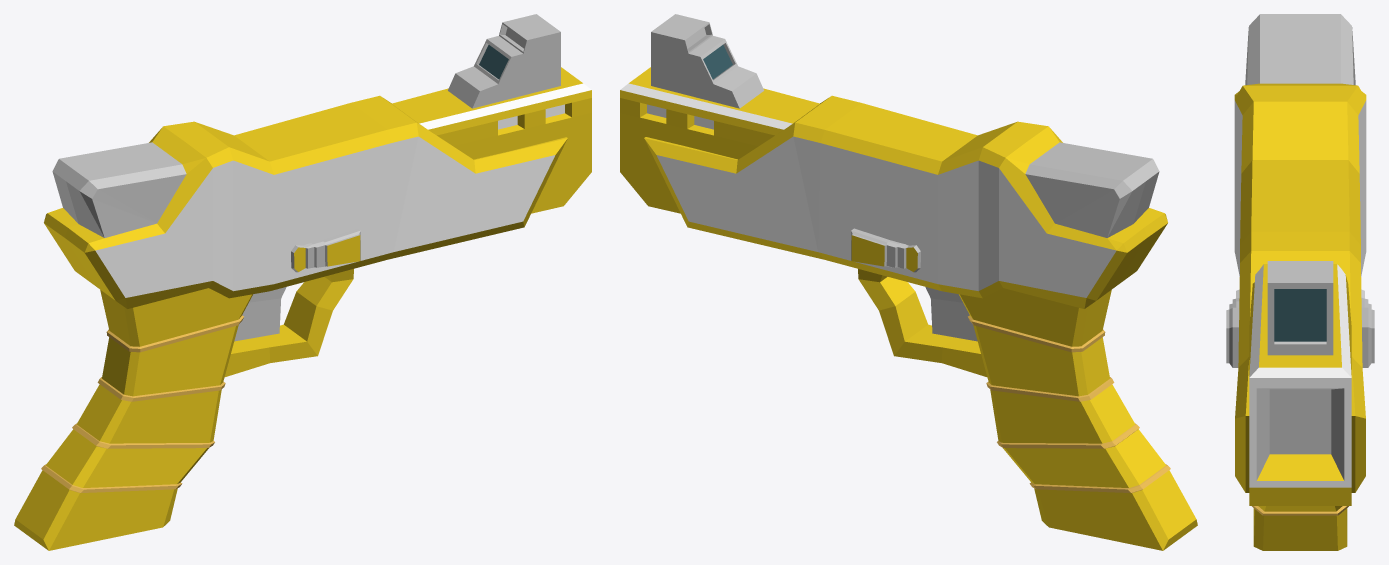
The model's file is Pistol_01_Yellow.fbx.
3 renders of one model, left to right at view 1: azimuth 30°, elevation 25°; view 2: azimuth 150°, elevation 25°; view 3: azimuth 270°, elevation 25°, orthographic. The views are drawn at different scales.
Parts seen in each view (by area): view 1: Pistol_01_Yellow; view 2: Pistol_01_Yellow; view 3: Pistol_01_Yellow.
Boxes of the visible parts, box(x1,y1,x2,y2) form: Pistol_01_Yellow: box(14, 14, 591, 550); Pistol_01_Yellow: box(620, 14, 1197, 550); Pistol_01_Yellow: box(1226, 14, 1374, 550).
Size of the model in its own units: 29.76 by 20.58 by 5.25.
Materials: 1 (1 with a texture image).
